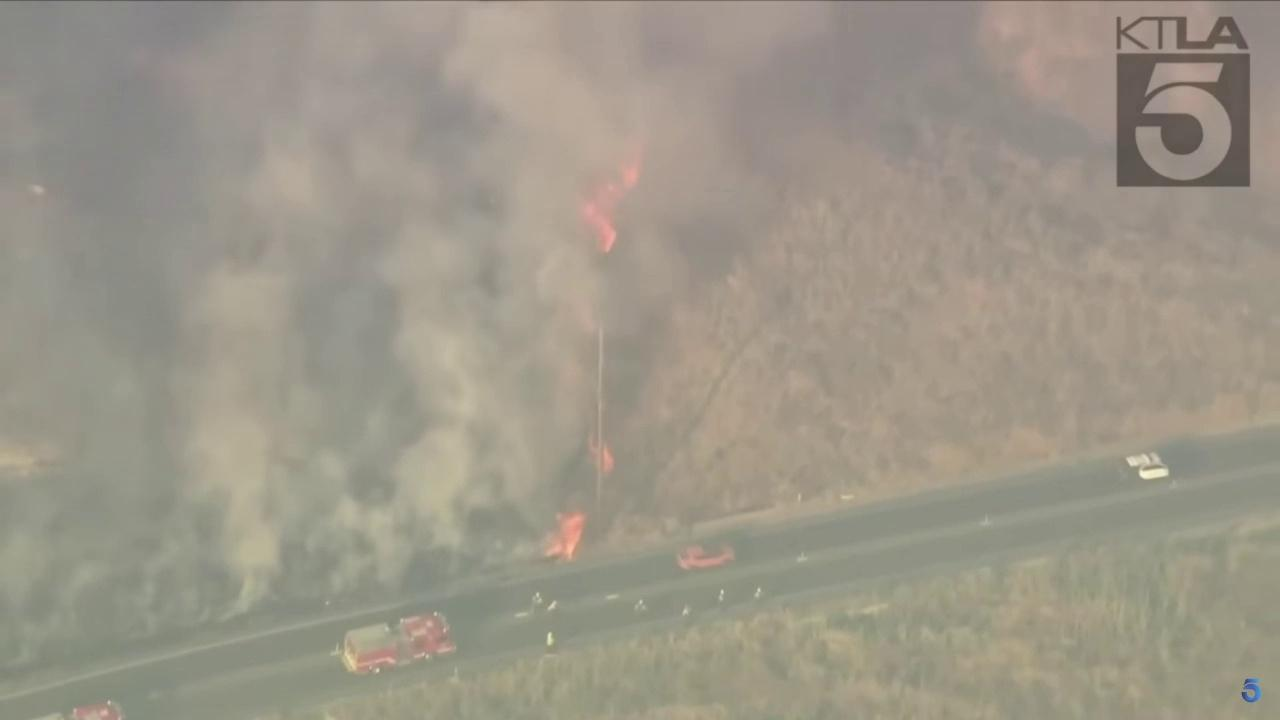fire: (579, 152, 639, 254), (545, 508, 589, 564), (601, 444, 613, 475)
smoke: (0, 0, 852, 662)
